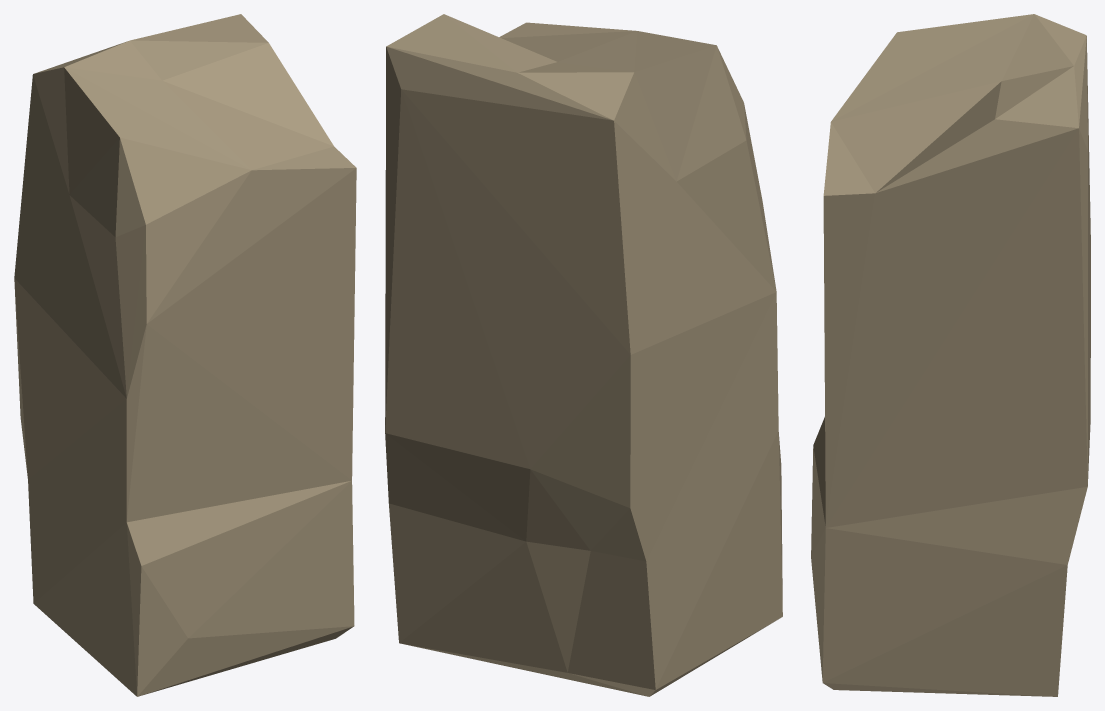
The model's file is SM_pillar_small.fbx.
3 renders of one model, left to right at view 1: azimuth 30°, elevation 25°; view 2: azimuth 150°, elevation 25°; view 3: azimuth 270°, elevation 25°, orthographic. The views are drawn at different scales.
Visible parts, largest first — view 1: Object173; view 2: Object173; view 3: Object173.
Part boxes in pixels (left/top/right/bottom): Object173: left=14, top=14, right=356, bottom=696; Object173: left=385, top=14, right=782, bottom=696; Object173: left=811, top=14, right=1090, bottom=696.
Bounding box in the file's own units: 19.56 × 19.03 × 44.04.
